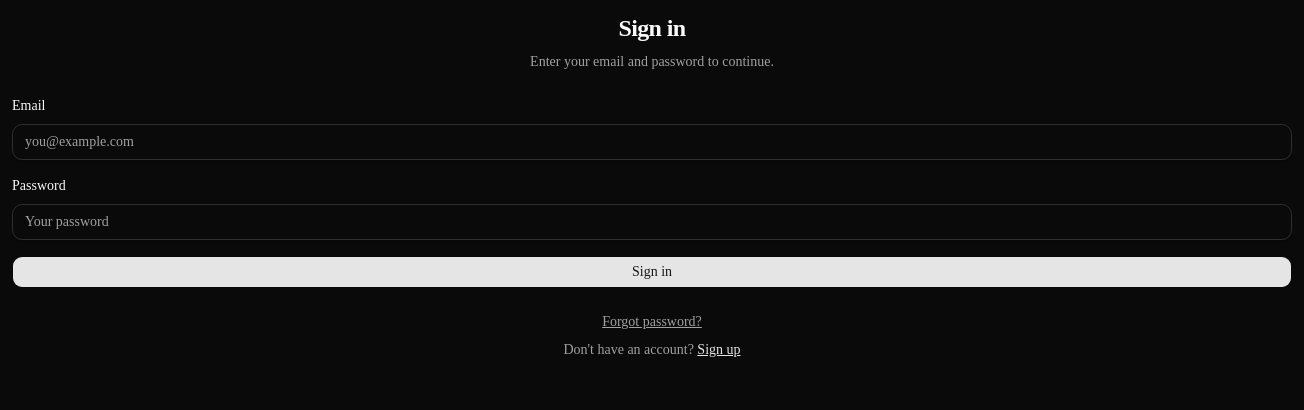
Test case: Authentication Flow › Login Page › shows error message on invalid credentials
In the field labelled "Email": [652, 142] box [12,124,1292,160], type "bad@example.com"
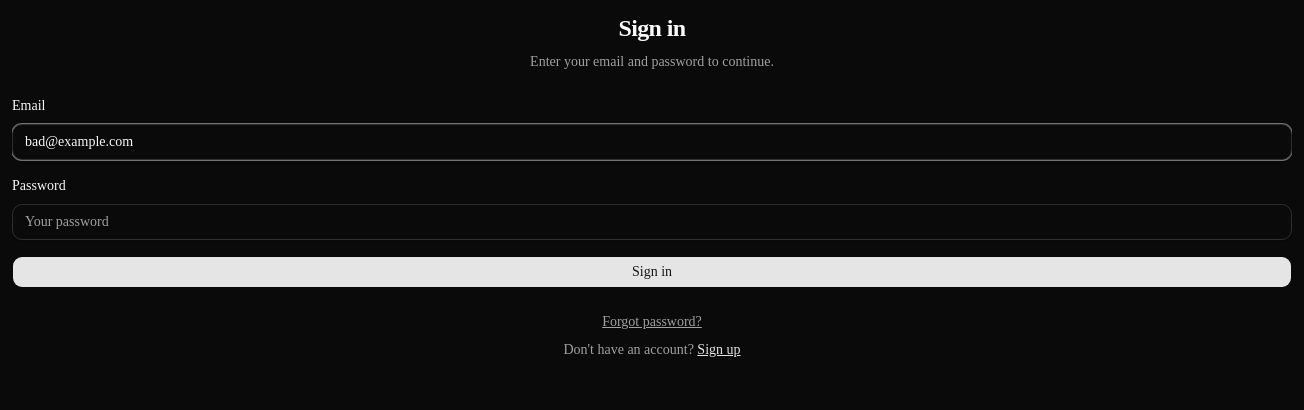
In the password field labelled "Password": [652, 222] box [12,204,1292,240], type "wrong"
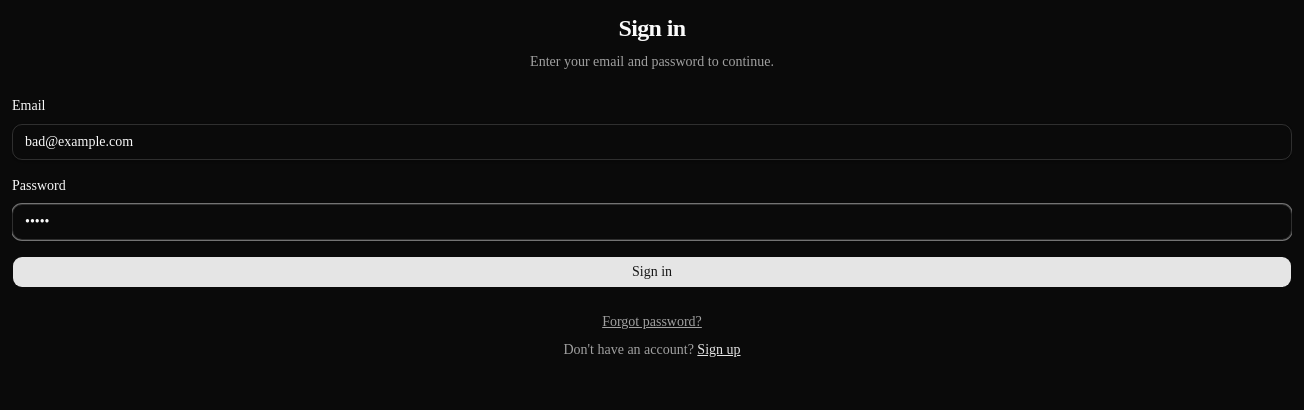
Click the button "Sign in": [652, 272] box [12,256,1292,288]
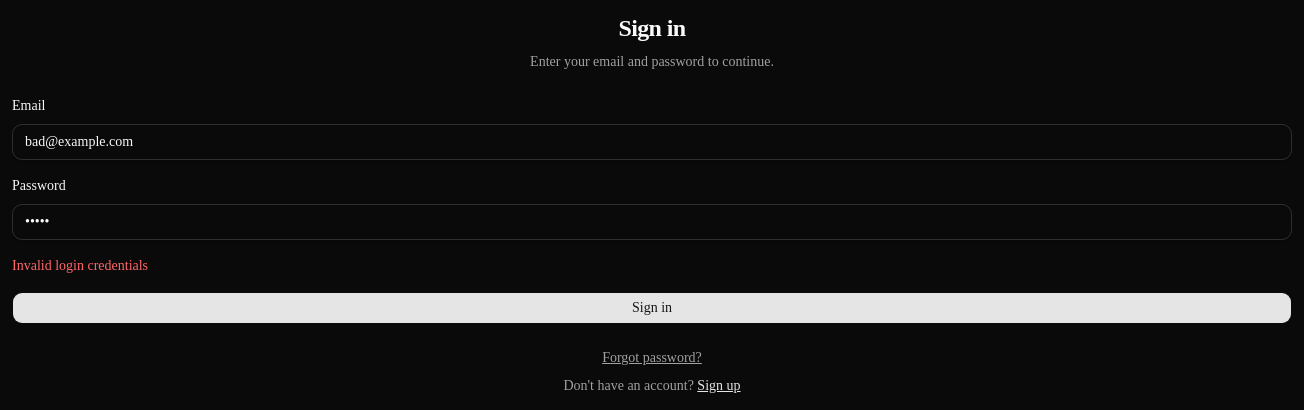
Check: the text "Invalid login credentials" is shown, box [12,258,148,273]
